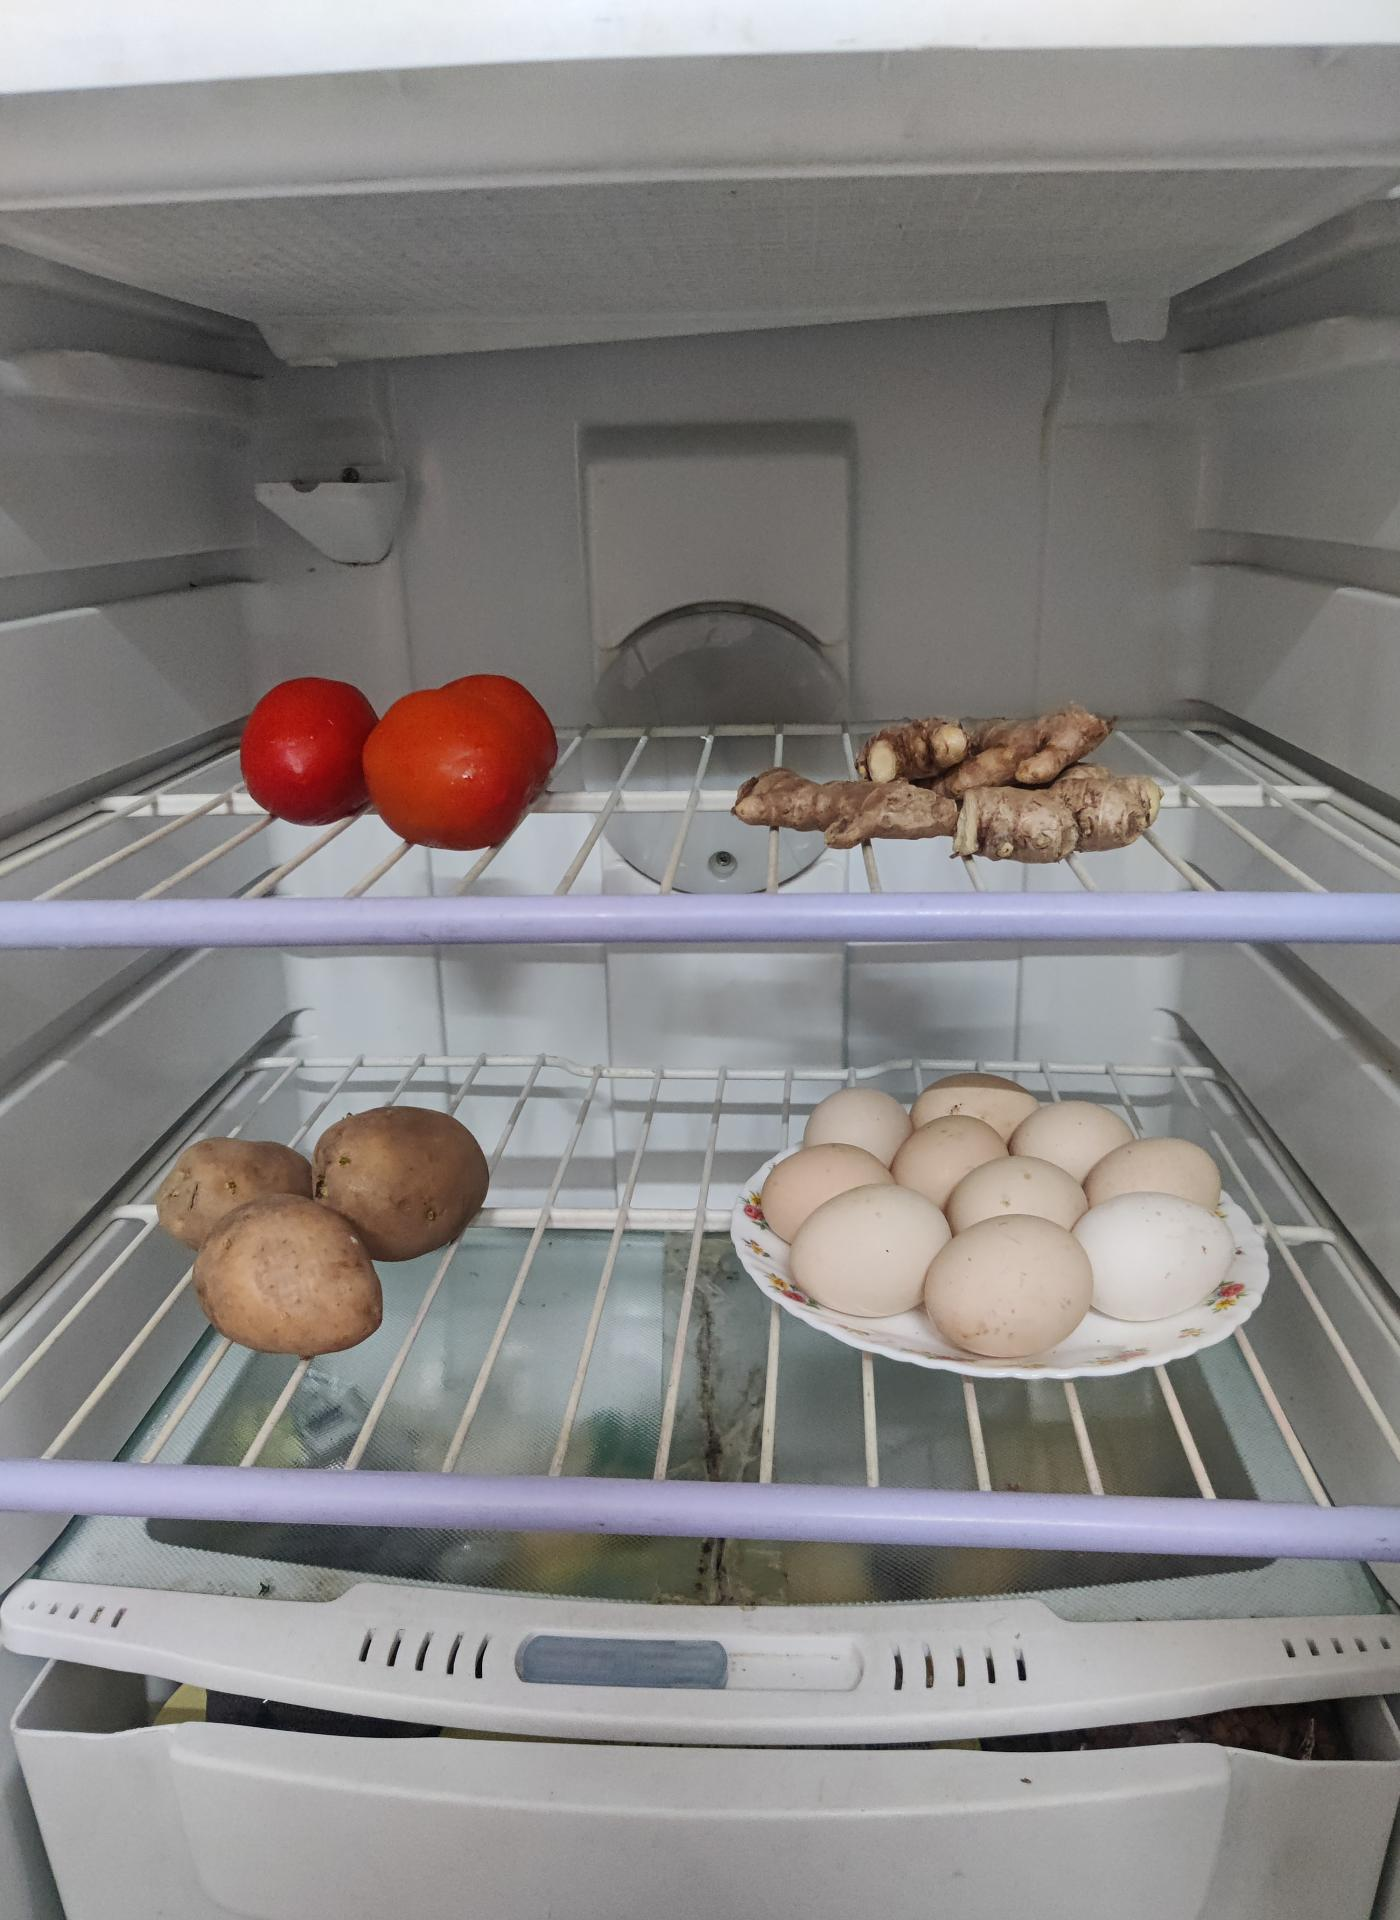egg: (745, 1079, 1233, 1362)
ginger: (725, 710, 1150, 871)
potato: (154, 1108, 489, 1362)
tomato: (240, 675, 562, 854)
